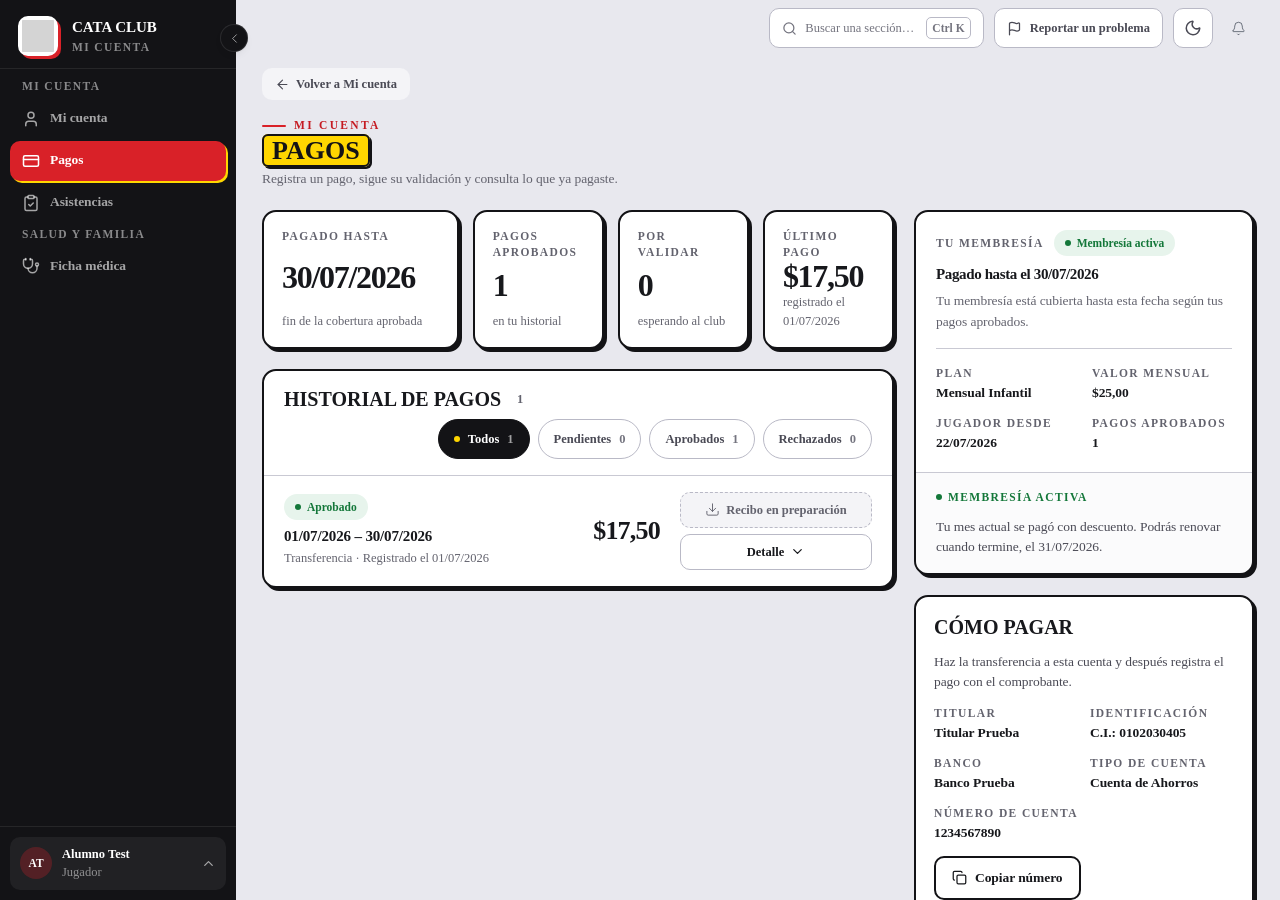
it: StudentPaymentsPage — el descuento que el club ya aplicó › explains the three numbers behind a discounted amount
Expected: the list with test id "student-payments-table" is shown, [264,475,892,586]
Click the button "Detalle" at (776, 552), box [680,534,872,570]
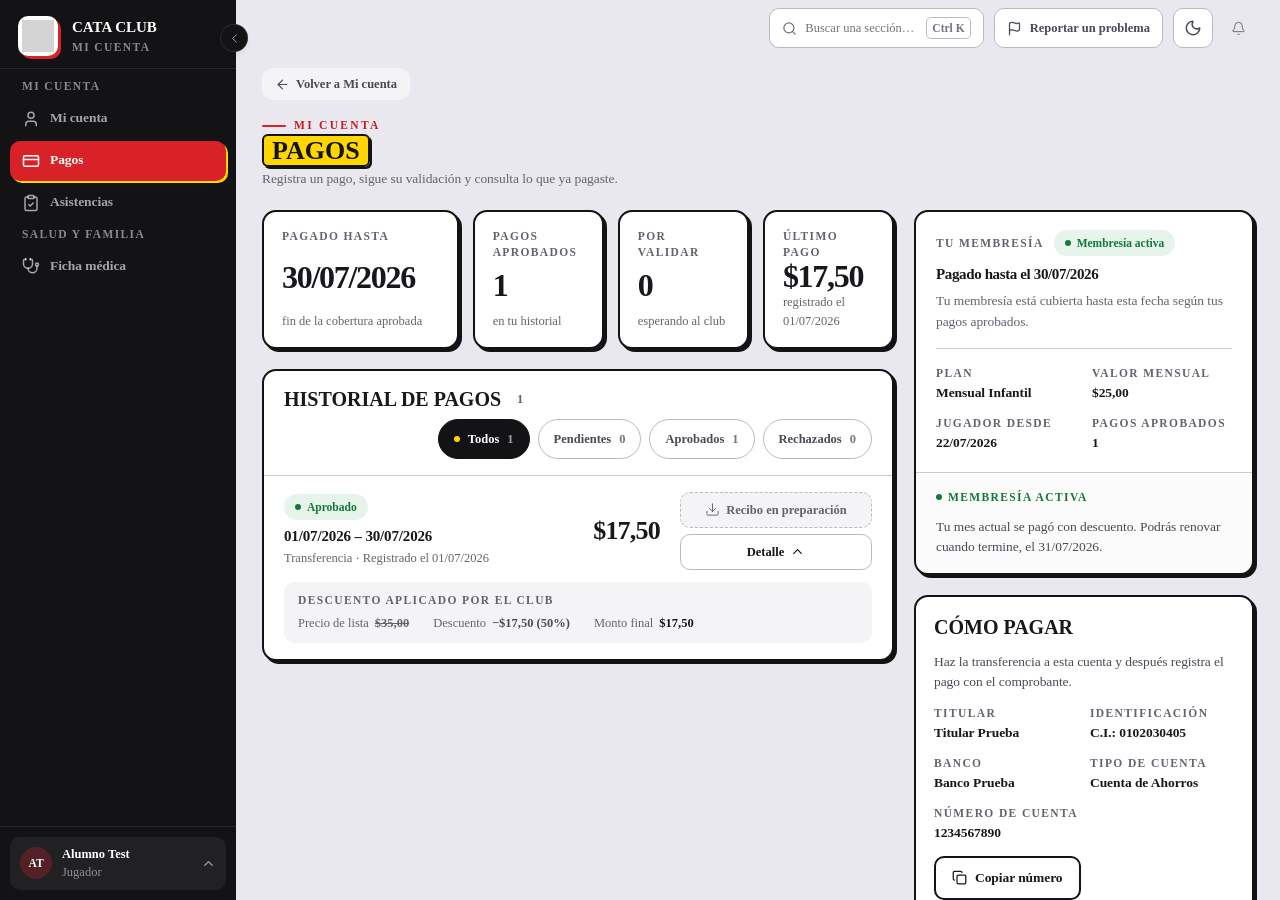
Expected: the text "Descuento aplicado por el club" is shown, [298,594,554,606]
Expected: the text "Precio de lista" is shown, [298,614,369,633]
Expected: the text "$35,00" is shown, [375,614,409,633]
